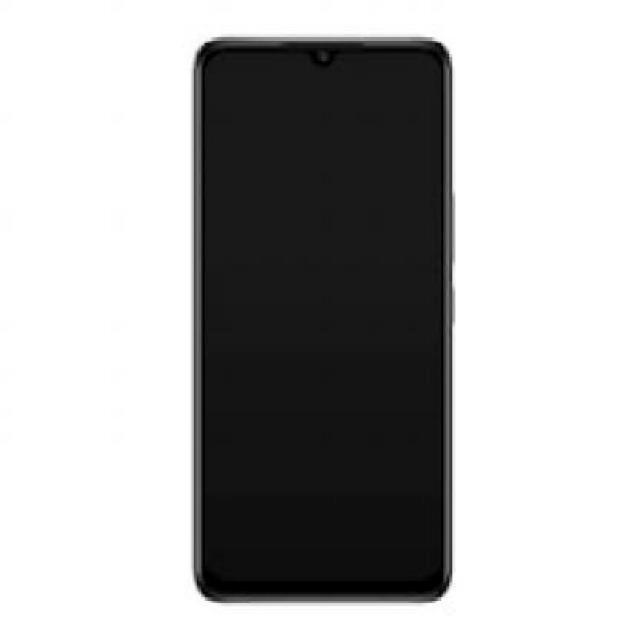fake: (190, 37, 456, 600)
